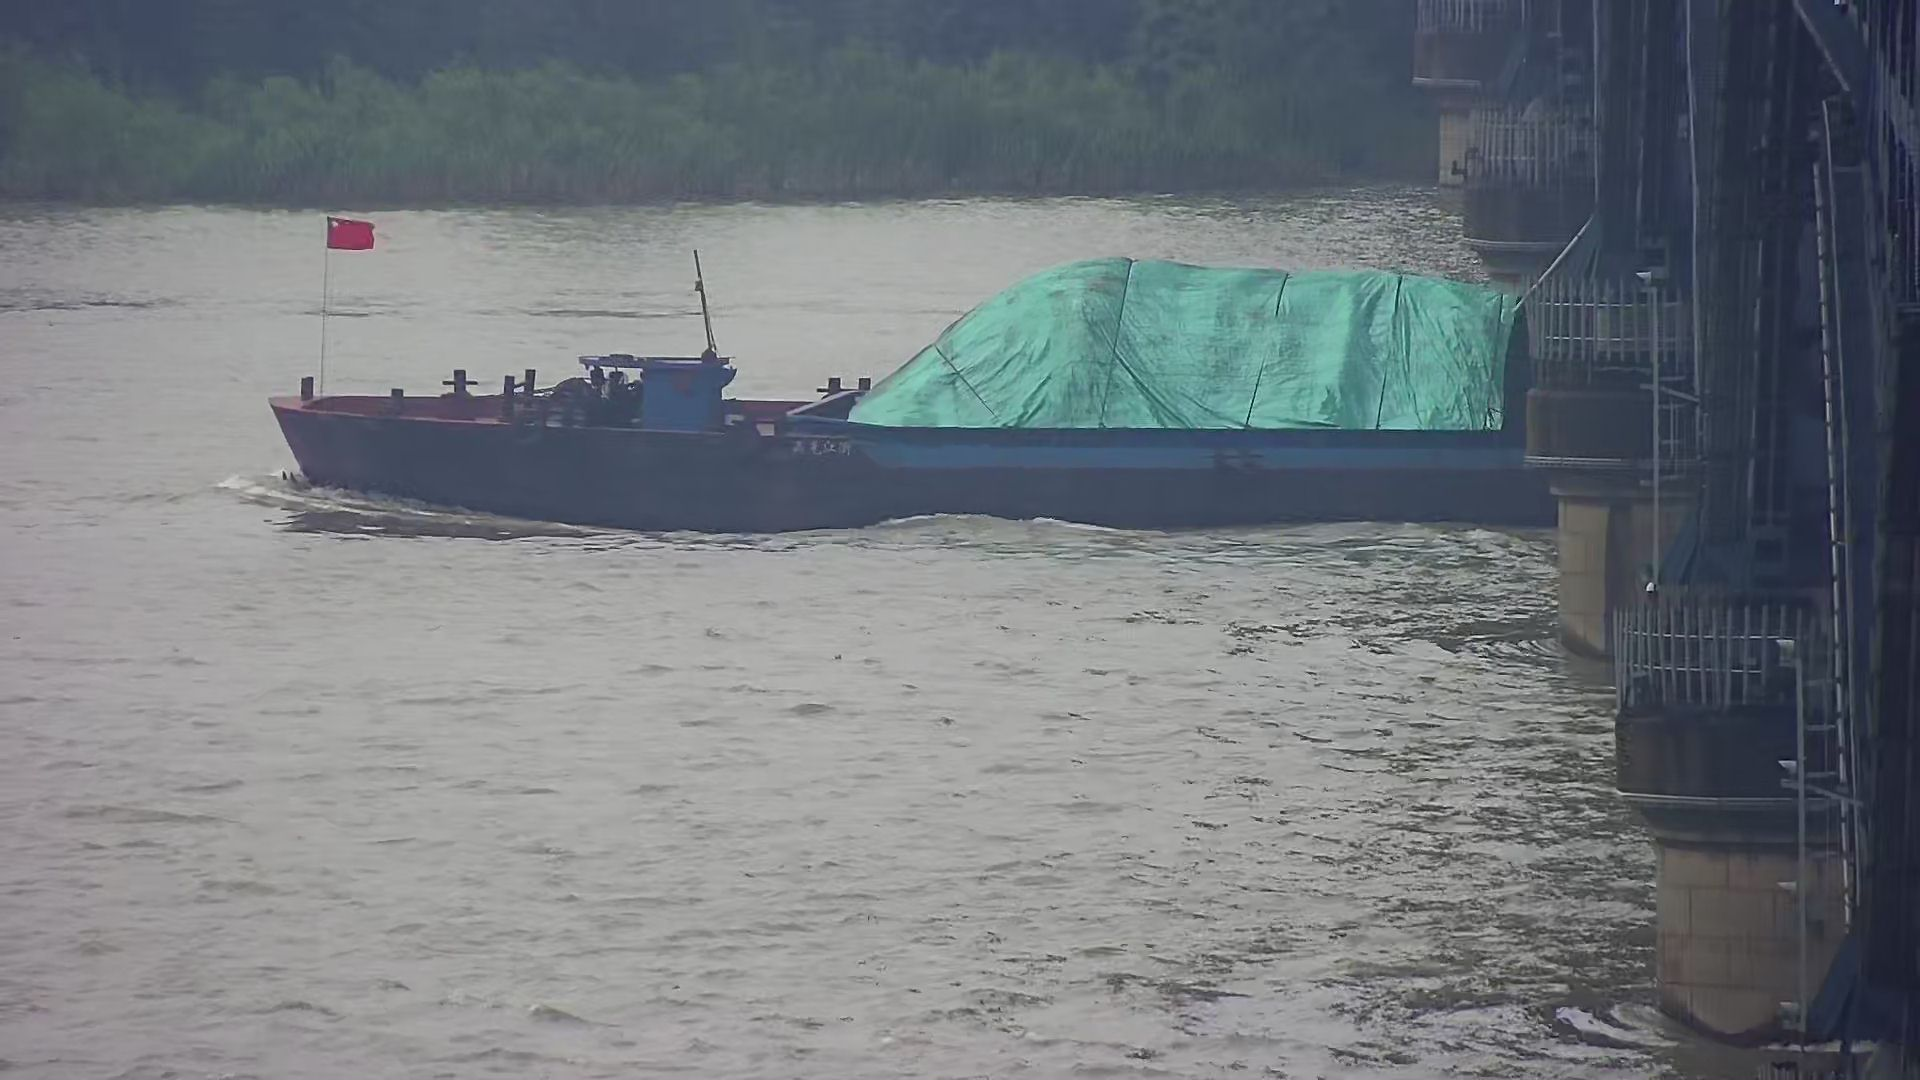bridge: (1410, 1, 1905, 1073)
ship: (253, 200, 1584, 543)
